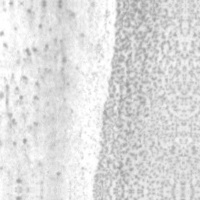pitted_surface: (95, 5, 186, 190), (0, 4, 67, 184)
